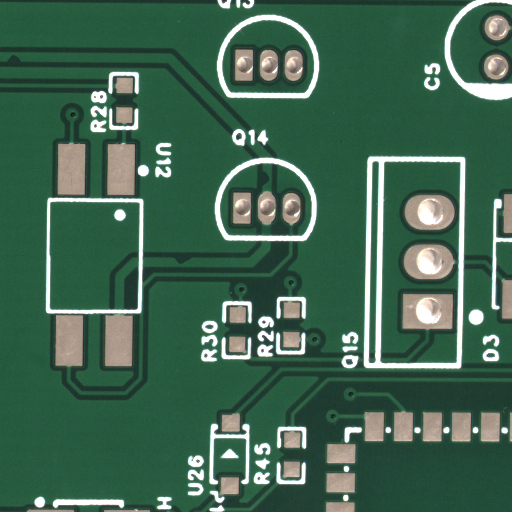Mouse_bite: (183, 260, 204, 270), (264, 177, 275, 195), (14, 58, 31, 67)
